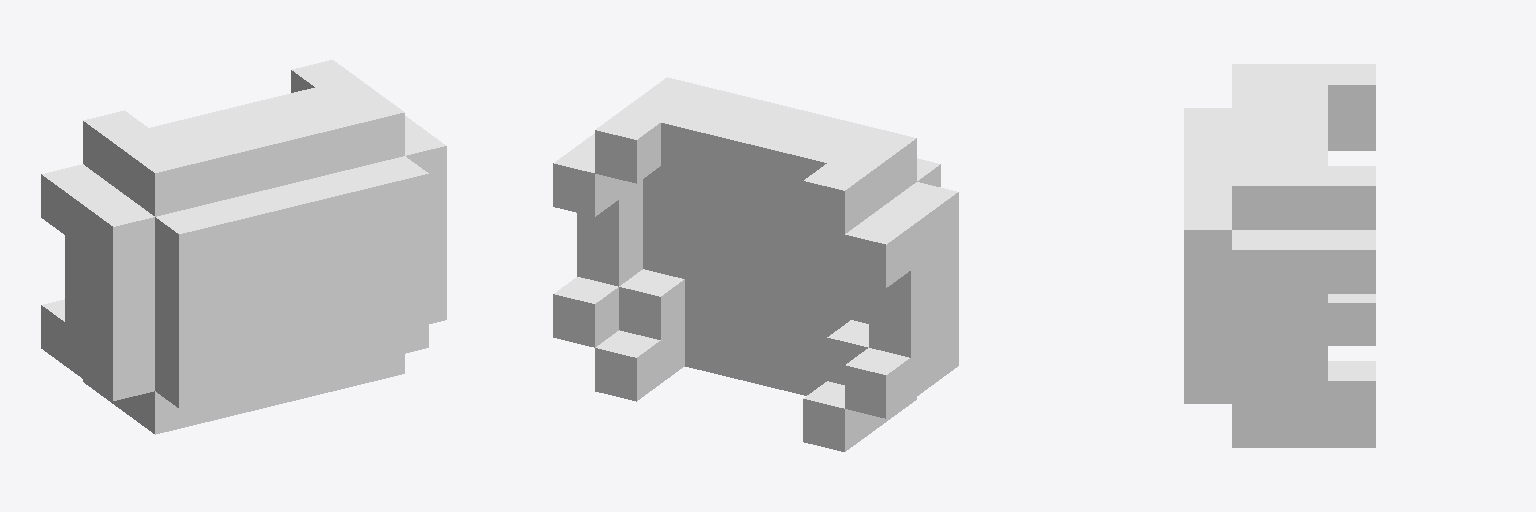
Rendered from socapacete.obj.
3 renders of one model, left to right at view 1: azimuth 30°, elevation 25°; view 2: azimuth 150°, elevation 25°; view 3: azimuth 270°, elevation 25°, orthographic.
Visible parts, largest first — view 1: object 1; view 2: object 1; view 3: object 1.
Boxes of the visible parts, <box> form: object 1: <box>41,60,446,434</box>; object 1: <box>553,77,958,451</box>; object 1: <box>1184,64,1375,447</box>.
Bounding box in the file's own units: 0.8 × 0.6 × 0.4.